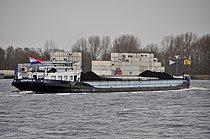Ship: (8, 46, 196, 95)
